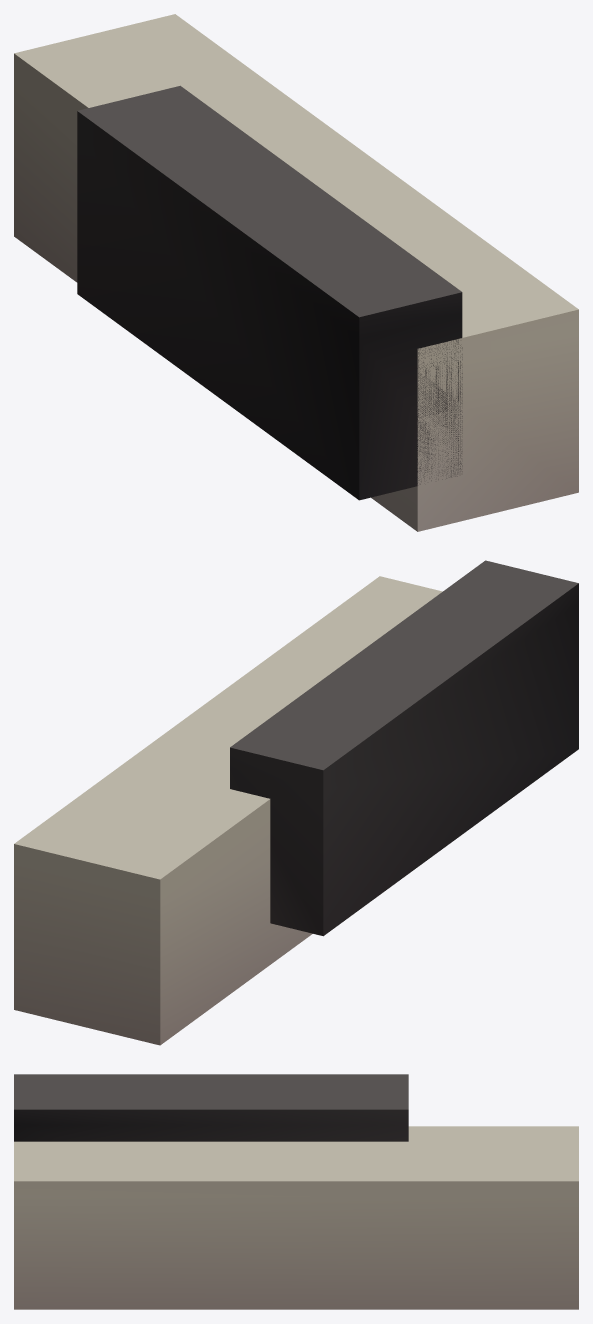
File: Notes2.fbx
3 views of the same model, one above another, from view 1: azimuth 30°, elevation 25°; view 2: azimuth 150°, elevation 25°; view 3: azimuth 270°, elevation 25° (orthographic). The views are drawn at different scales.
Parts seen in each view (by area): view 1: Mesh_BlackNote, Mesh_WhiteNote; view 2: Mesh_BlackNote, Mesh_WhiteNote; view 3: Mesh_WhiteNote, Mesh_BlackNote.
Part boxes in pixels (x1,y1,x2,y2): Mesh_BlackNote: [77, 85, 462, 500]; Mesh_WhiteNote: [14, 14, 578, 531]; Mesh_BlackNote: [230, 560, 578, 936]; Mesh_WhiteNote: [14, 576, 442, 1045]; Mesh_WhiteNote: [14, 1126, 578, 1309]; Mesh_BlackNote: [14, 1074, 408, 1141].
Size of the model in its own units: 251 by 250 by 799.
